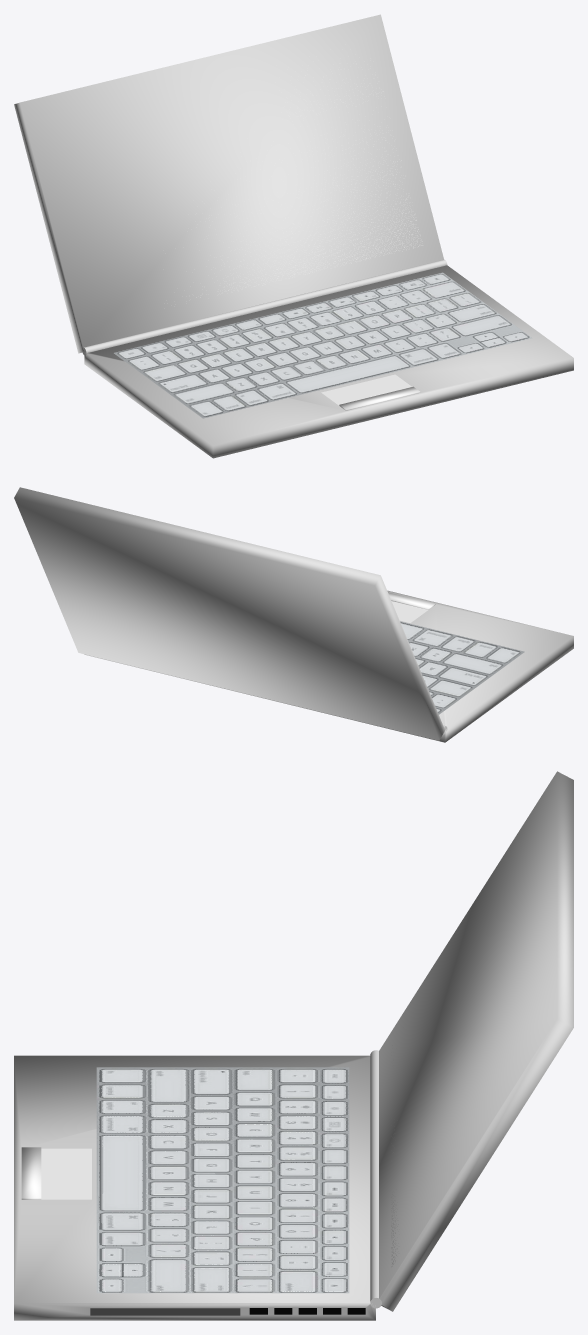
Rendered from laptop.dae.
3 views of the same model, one above another, from view 1: azimuth 30°, elevation 25°; view 2: azimuth 150°, elevation 25°; view 3: azimuth 270°, elevation 25° (orthographic). The views are drawn at different scales.
Parts seen in each view (by area): view 1: SketchUp (×3), image_1; view 2: SketchUp (×3), image_1; view 3: SketchUp (×4), image_1.
Boxes of the visible parts, x1,y1,x2,y2 form: SketchUp (×3): (14,14,573,458); image_1: (114,272,532,418); SketchUp (×3): (14,487,573,742); image_1: (400,621,524,714); SketchUp (×4): (14,771,573,1320); image_1: (96,1067,349,1293).
Size of the model in its own units: 6.01 by 5.72 by 3.4.
Materials: 6 (1 with a texture image).
